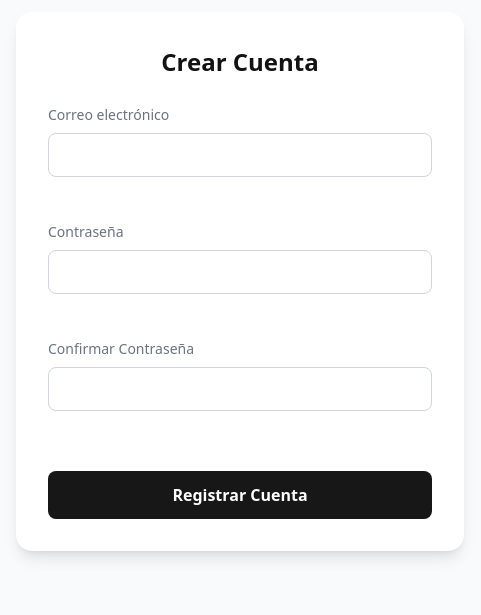
RegisterPage › [CA-01.4] Debe mostrar un error del servidor si el correo ya existe
The width and height of the screenshot is (481, 615).
Type "david.existente@clarity.com" into the field labelled "Correo electrónico" at (240, 154), box x1=48 y1=132 x2=432 y2=176
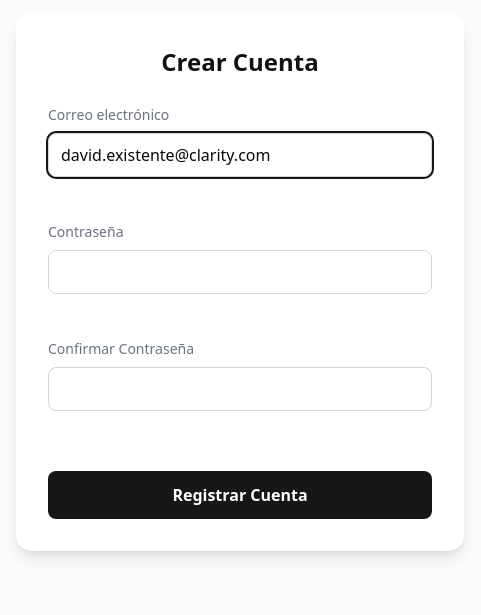
Note: CORRECCIÓN: Escribir en cada campo de forma explícita
Type "passwordValido123" into the password field labelled "Contraseña" at (240, 272), box x1=48 y1=250 x2=432 y2=294
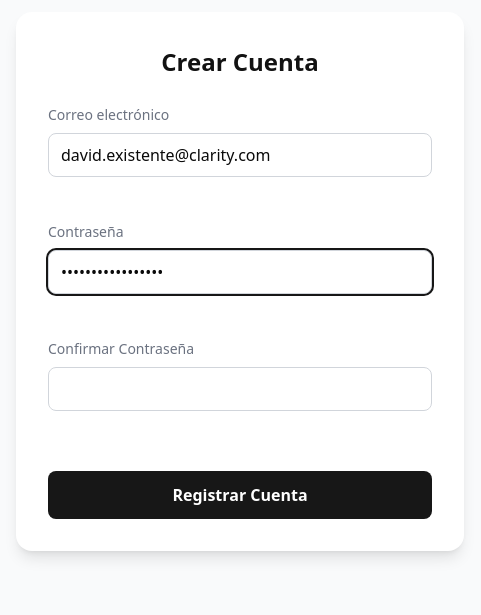
Type "passwordValido123" into the password field labelled "Confirmar Contraseña" at (240, 388), box x1=48 y1=366 x2=432 y2=410
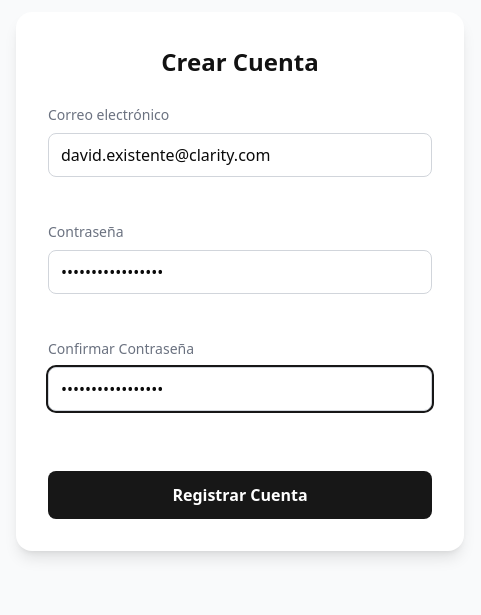
Click the button "Registrar Cuenta" at (240, 494), box x1=48 y1=470 x2=432 y2=518
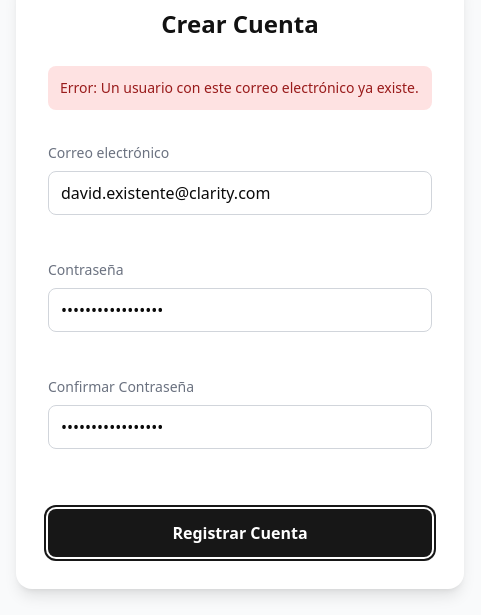
Now the text "Error: Un usuario con este correo electrónico ya existe." is shown, box x1=48 y1=66 x2=432 y2=110
